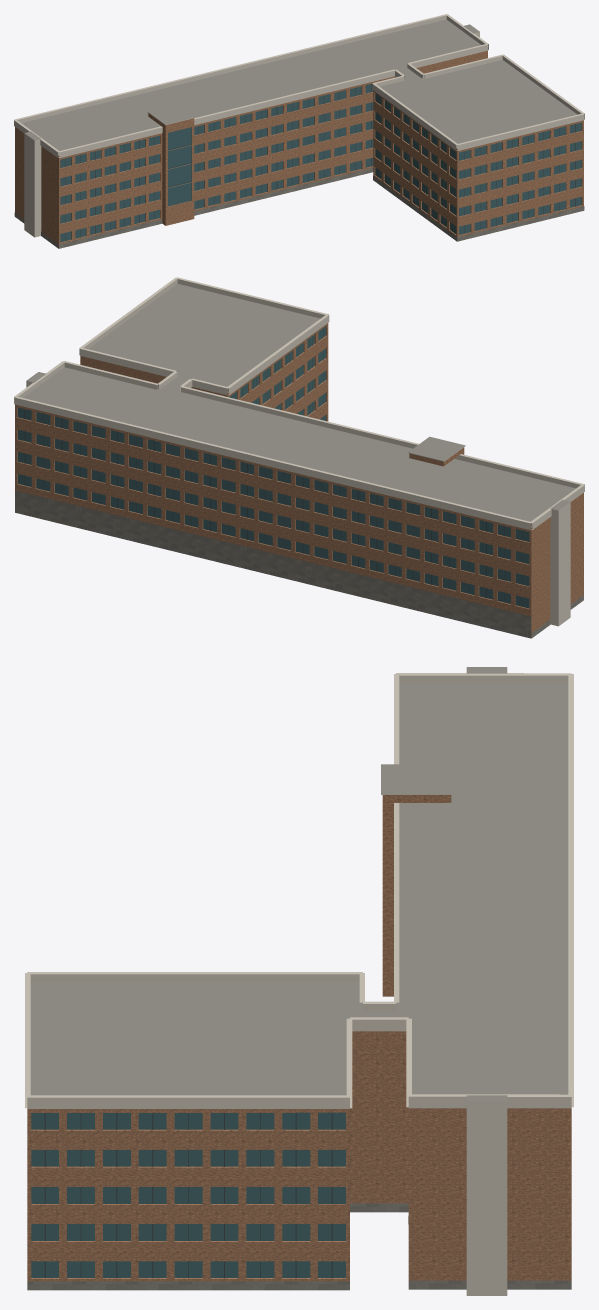
3 renders of one model, top to bottom at view 1: azimuth 30°, elevation 25°; view 2: azimuth 150°, elevation 25°; view 3: azimuth 270°, elevation 25°, orthographic. The views are drawn at different scales.
Parts seen in each view (by area): view 1: eng2__wall, eng2__roof, eng2__glass, eng2__trim, eng2__base, eng2__frame; view 2: eng2__wall, eng2__roof, eng2__glass, eng2__trim, eng2__base, eng2__frame; view 3: eng2__roof, eng2__wall, eng2__trim, eng2__glass, eng2__base, eng2__frame.
Part boxes in pixels (x1,y1,x2,y2): eng2__wall: (15,50,583,248); eng2__roof: (21,19,576,155); eng2__glass: (60,84,581,242); eng2__trim: (14,14,584,237); eng2__base: (14,168,584,248); eng2__frame: (65,84,575,240); eng2__wall: (15,323,583,637); eng2__roof: (23,283,575,527); eng2__glass: (18,326,529,608); eng2__trim: (14,277,584,626); eng2__base: (15,490,583,638); eng2__frame: (24,328,522,606); eng2__roof: (30,667,568,1101); eng2__wall: (27,795,571,1281); eng2__trim: (25,673,573,1295); eng2__glass: (31,1112,345,1277); eng2__base: (27,1203,571,1290); eng2__frame: (44,1112,332,1278).
Bounding box in the file's own units: 93.02 × 20.32 × 49.63.
Materials: 6 (2 with a texture image).
